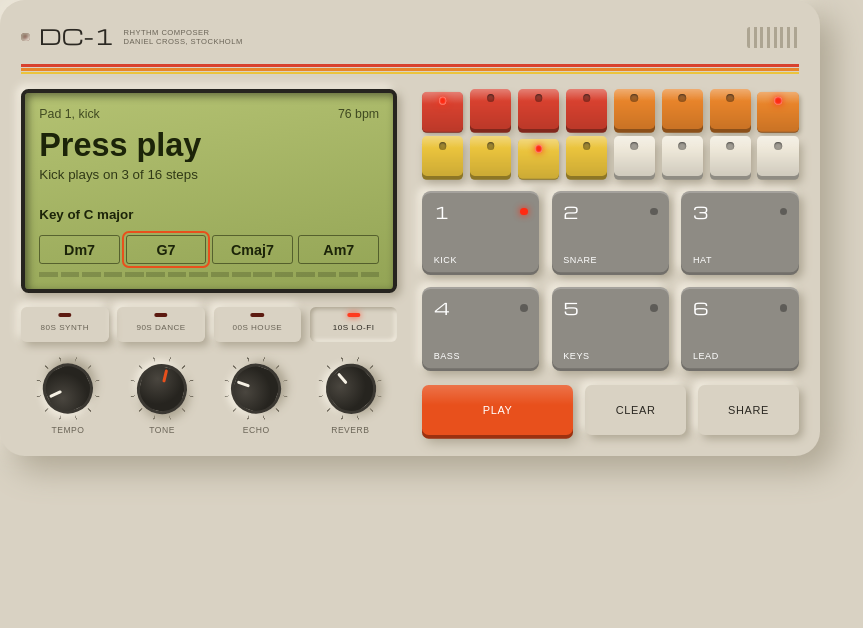
Test: opening the tray moves focus into it; Escape closes it and gives focus back
Click the button "G7". click: (166, 250)
box: [126,235,206,264]
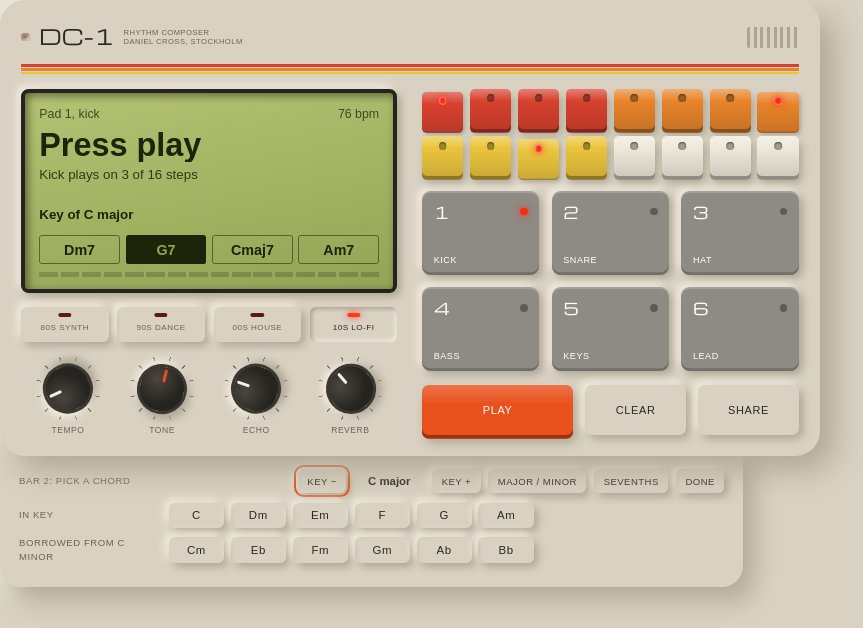
Press Escape in the button "Key −", box [298,469,346,493]
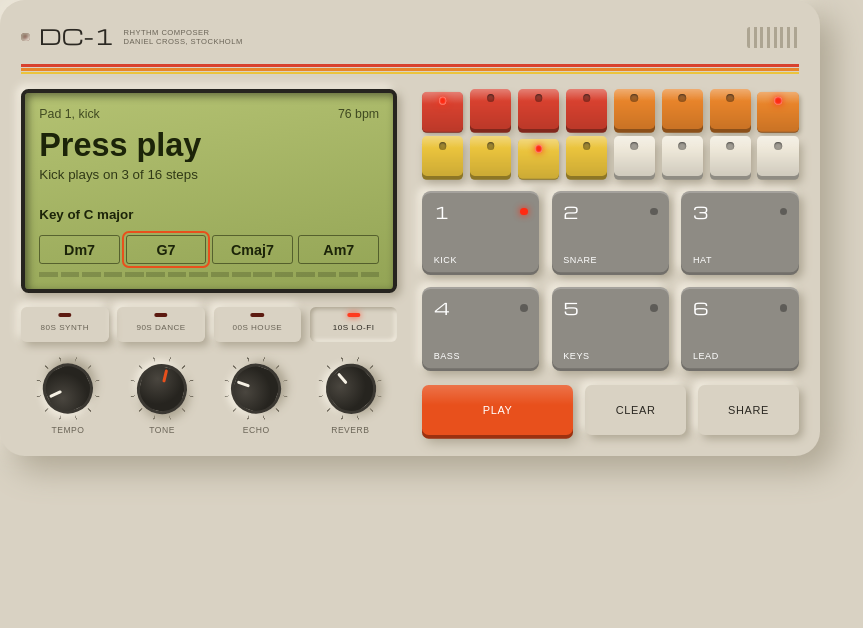
Expected: the text "Bar 2: pick a chord" is gone
